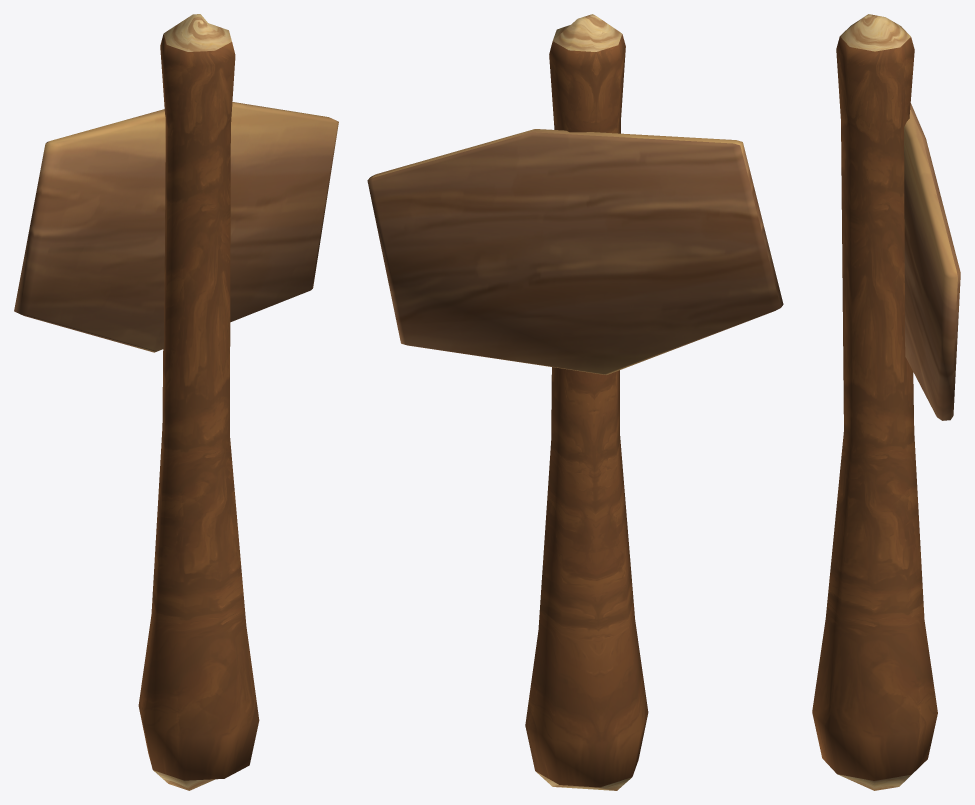
File: Sign.fbx
The picture shows the model from 3 angles, left to right: view 1: azimuth 30°, elevation 25°; view 2: azimuth 150°, elevation 25°; view 3: azimuth 270°, elevation 25°; orthographic projection.
Visible parts, largest first — view 1: Sign; view 2: Sign; view 3: Sign.
Boxes of the visible parts, <box> form: Sign: <box>14,14,338,790</box>; Sign: <box>367,14,783,790</box>; Sign: <box>812,14,960,790</box>.
Bounding box in the file's own units: 19.41 × 38.45 × 6.83.
